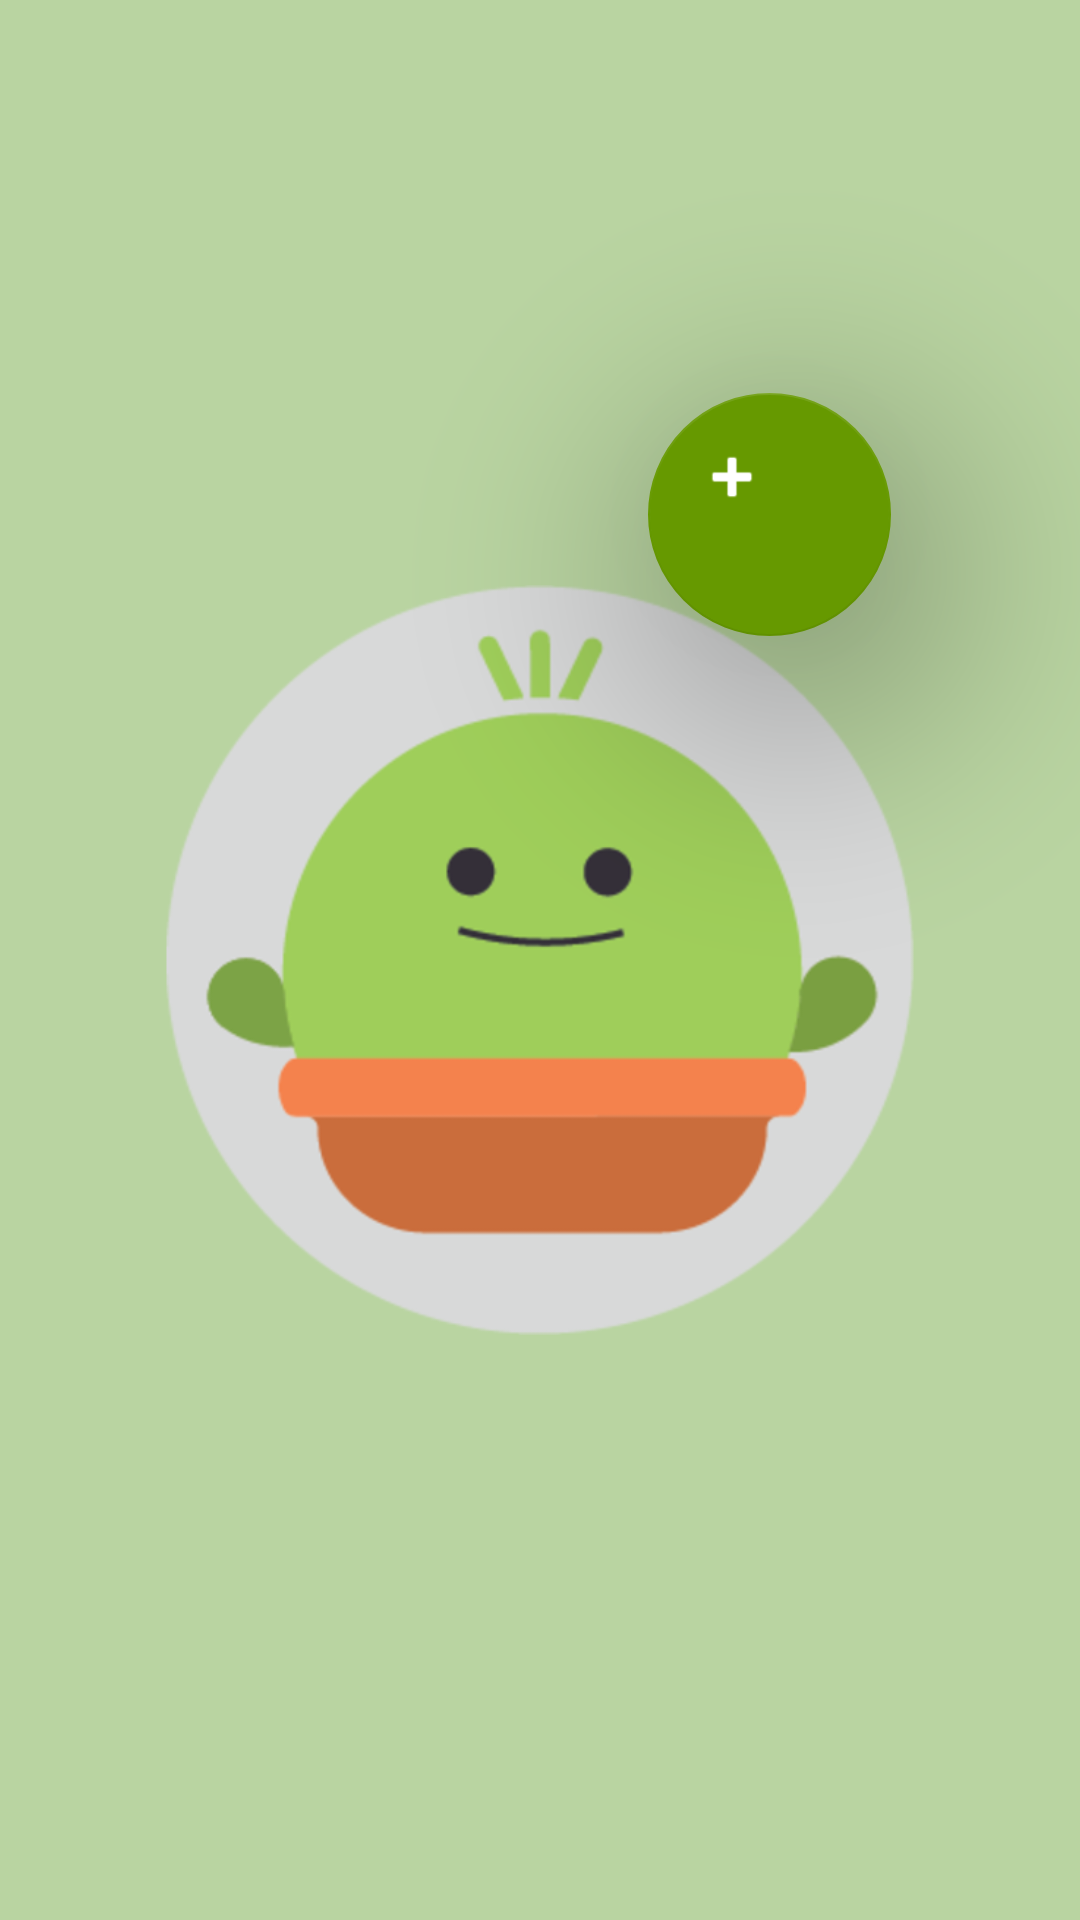

Where icons sit on this 1080px x 1920px app screen, as [x1,y1,x2,y2]:
add: [648,393,891,636]
